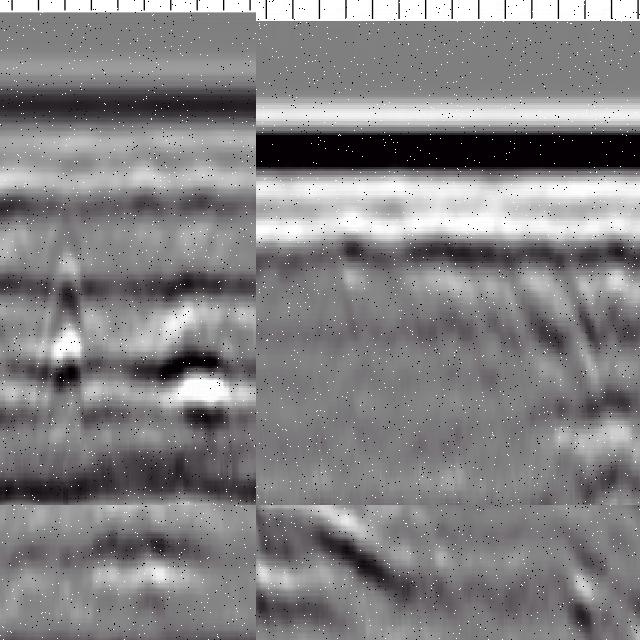loose: (491, 212, 640, 504), (22, 262, 237, 429), (17, 506, 227, 598), (257, 506, 415, 620)
